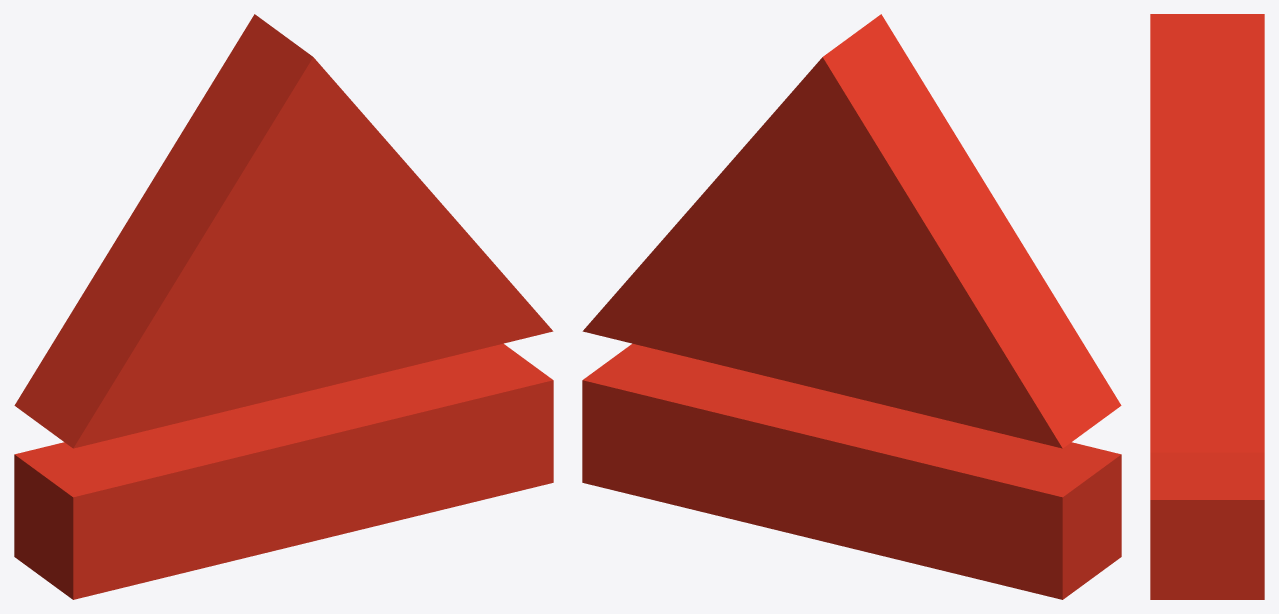
File: Icon_Eject.fbx
The picture shows the model from 3 angles, left to right: view 1: azimuth 30°, elevation 25°; view 2: azimuth 150°, elevation 25°; view 3: azimuth 270°, elevation 25°; orthographic projection. The views are drawn at different scales.
Visible parts, largest first — view 1: Icon_Eject; view 2: Icon_Eject; view 3: Icon_Eject.
Boxes of the visible parts, x1,y1,x2,y2 form: Icon_Eject: [14, 14, 553, 599]; Icon_Eject: [582, 14, 1121, 599]; Icon_Eject: [1150, 14, 1264, 599].
Size of the model in its own units: 56.95 by 54.88 by 12.06.
